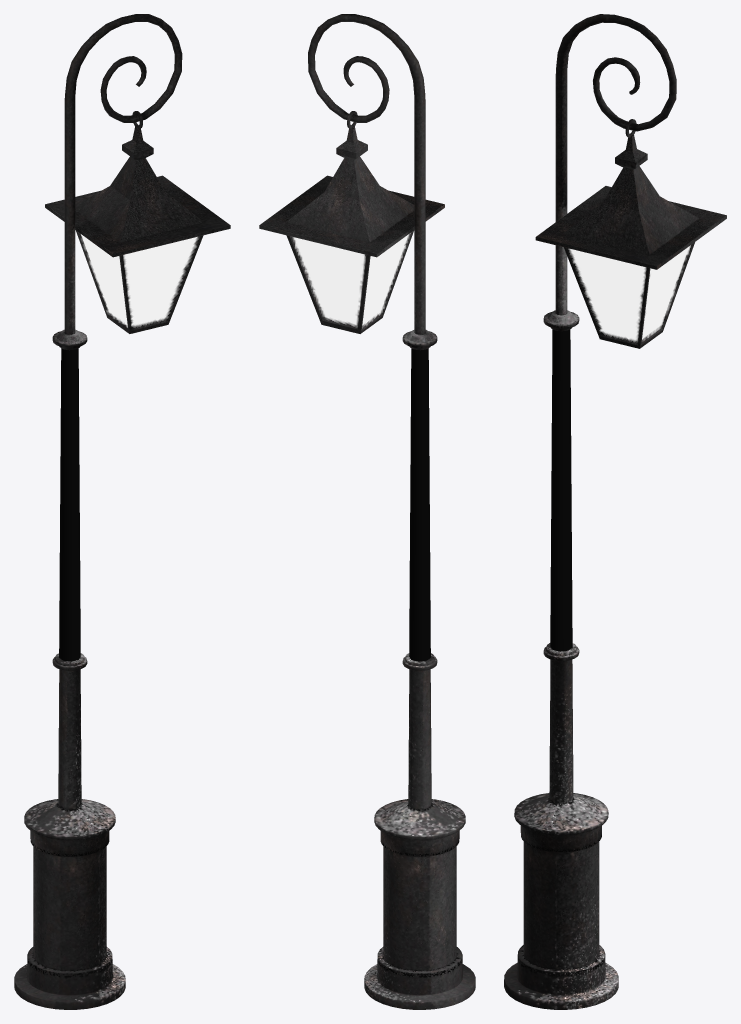
3 views of the same model, side by side, from view 1: azimuth 30°, elevation 25°; view 2: azimuth 150°, elevation 25°; view 3: azimuth 330°, elevation 25° (orthographic). The views are drawn at different scales.
Parts seen in each view (by area): view 1: lamp; view 2: lamp; view 3: lamp.
Part boxes in pixels (<box>): lamp: <box>14,14,230,1009</box>; lamp: <box>259,14,475,1009</box>; lamp: <box>504,14,726,1009</box>.
Size of the model in its own units: 2.53 by 13.18 by 1.7.
1 material, 1 textured.
